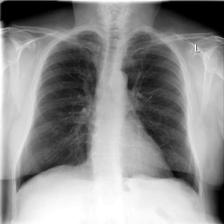normal: (12, 25, 207, 199)
